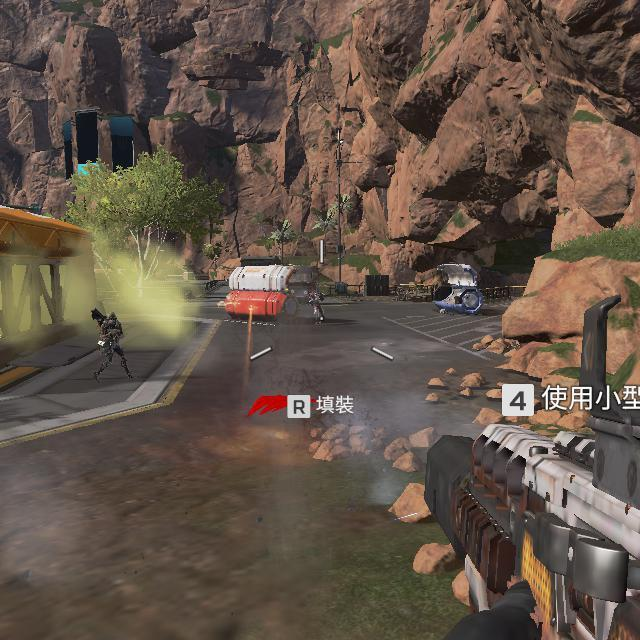avatar: (89, 308, 136, 382)
